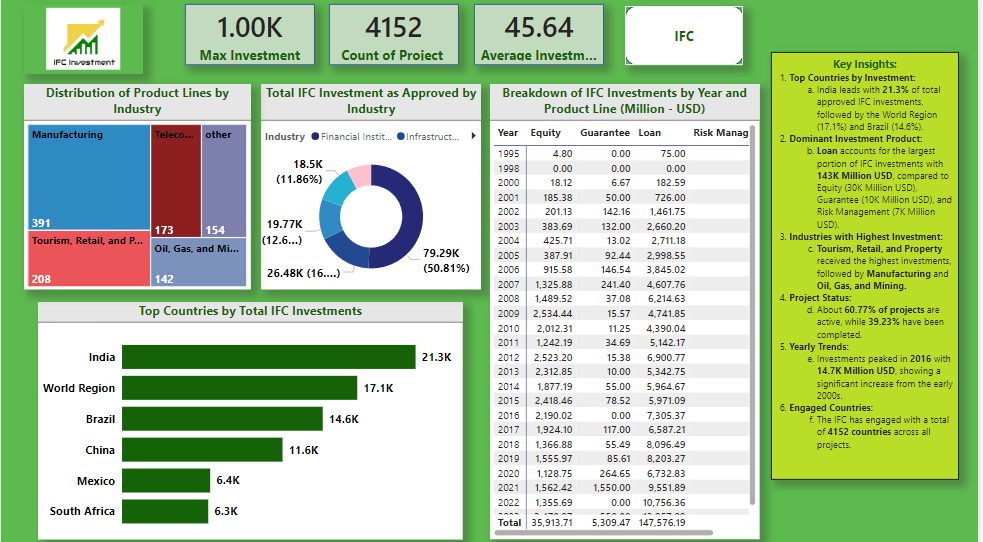

This screenshot's page, from the dashboard's own definition file:
{"tool":"powerbi","page":{"name":"IFC Investment","canvas":[1280,720],"ordinal":1},"visuals":[{"type":"barChart","title":"Top Countries by Total IFC Investments","fields":{"Category":["ifc_investment_services_projects_12-04-2024.Country"],"Y":["Sum(ifc_investment_services_projects_12-04-2024.Total IFC investment as approved by Board(Million - USD))"]},"box":[49,400.3,555.8,311],"z":0},{"type":"donutChart","title":"Total IFC Investment as Approved by Industry","fields":{"Category":["ifc_investment_services_projects_12-04-2024.Industry"],"Y":["Sum(ifc_investment_services_projects_12-04-2024.Total IFC investment as approved by Board(Million - USD))"]},"box":[341,115.6,288.3,269.3],"z":1000},{"type":"pivotTable","title":"Breakdown of IFC Investments by Year and Product Line (Million - USD)","fields":{"Rows":["ifc_investment_services_projects_12-04-2024.IFC Invested Date.Variation.Date Hierarchy.Year"],"Values":["Sum(ifc_investment_services_projects_12-04-2024.IFC investment for Equity(Million - USD))","Sum(ifc_investment_services_projects_12-04-2024.IFC investment for Guarantee(Million - USD))","Sum(ifc_investment_services_projects_12-04-2024.IFC investment for Loan(Million - USD))","Sum(ifc_investment_services_projects_12-04-2024.IFC investment for Risk Management(Million - USD))"]},"box":[639.5,115.6,352.7,595.6],"z":2000},{"type":"shape","box":[816.6,13.2,155.1,77.6],"z":3000},{"type":"image","box":[30.2,10.1,155.5,90.7],"z":4000},{"type":"treemap","title":"Distribution of Product Lines by Industry","fields":{"Values":["CountNonNull(ifc_investment_services_projects_12-04-2024.Product Line)"],"Group":["ifc_investment_services_projects_12-04-2024.Industry"]},"box":[30.2,115.2,296.6,269.3],"z":7000},{"type":"card","fields":{"Values":["CountNonNull(ifc_investment_services_projects_12-04-2024.Project Name)"]},"box":[428.8,10.2,169.8,80.5],"z":8000},{"type":"card","title":"Avg Investment","fields":{"Values":["ifc_investment_services_projects_12-04-2024.Average Investment"]},"box":[619,10.2,169.8,80.5],"z":9000},{"type":"card","fields":{"Values":["ifc_investment_services_projects_12-04-2024.Max Investment"]},"box":[241.5,10.2,169.8,80.5],"z":10000},{"type":"textbox","box":[1008.3,73.2,245.9,560.5],"z":11000}]}

Visuals, with their boxes in screenshot pixels (x1, y1, x2, y2), scaled from the page's 1280x720 canvas onto the 983x542 screenshot:
"Top Countries by Total IFC Investments" barChart: <box>38,301,464,535</box>
"Total IFC Investment as Approved by Industry" donutChart: <box>262,87,483,290</box>
"Breakdown of IFC Investments by Year and Product Line (Million - USD)" pivotTable: <box>491,87,762,535</box>
shape: <box>627,10,746,68</box>
image: <box>23,8,143,76</box>
"Distribution of Product Lines by Industry" treemap: <box>23,87,251,289</box>
card - CountNonNull(ifc_investment_services_projects_12-04-2024.Project Name): <box>329,8,460,68</box>
"Avg Investment" card: <box>475,8,606,68</box>
card - ifc_investment_services_projects_12-04-2024.Max Investment: <box>185,8,316,68</box>
textbox: <box>774,55,963,477</box>
